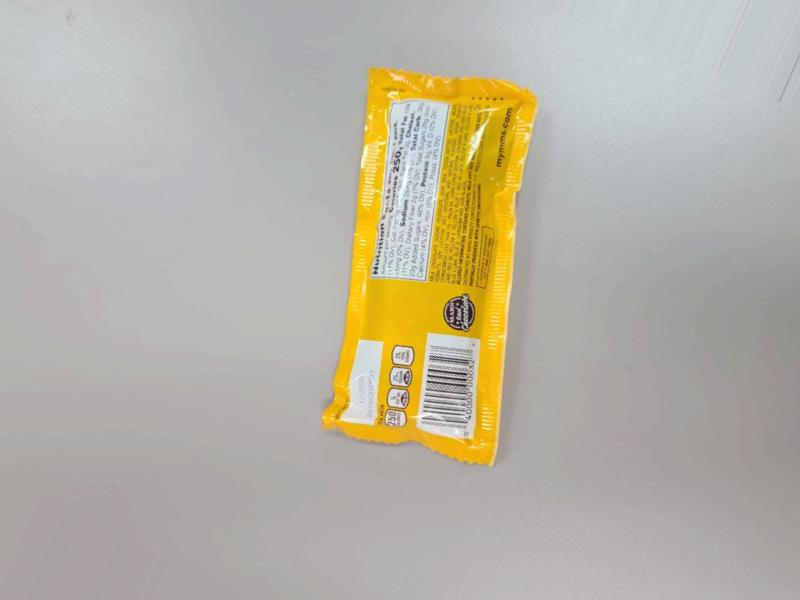m&m: (333, 34, 514, 431)
